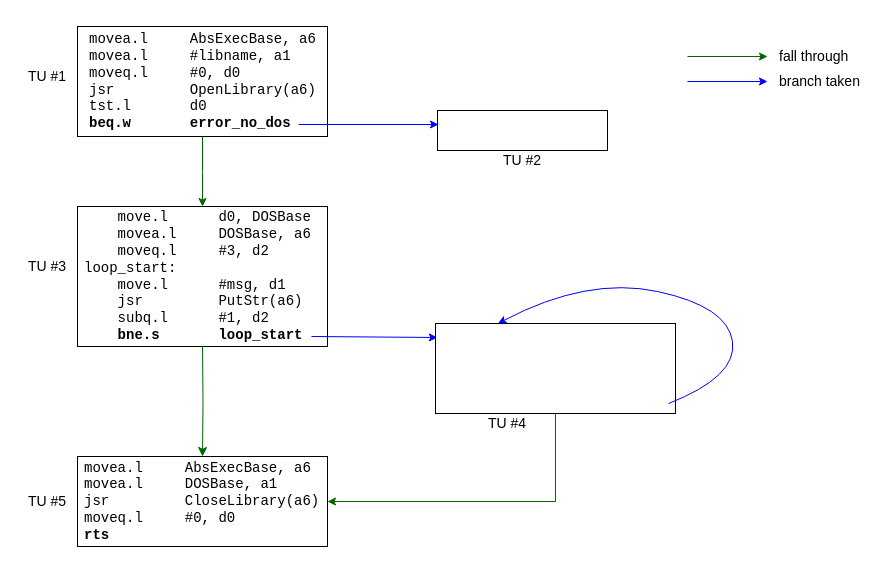
Image size: 884x575. Some labels were removed from this diagram. Each missing label, with the box of its shape:
loop_start: move.l #msg, d1 jsr PutStr(a6) subq.l #1, d2 bne.s loop_start: (434, 322, 676, 414)
moveq.l #1, d0 rts: (436, 110, 608, 150)
